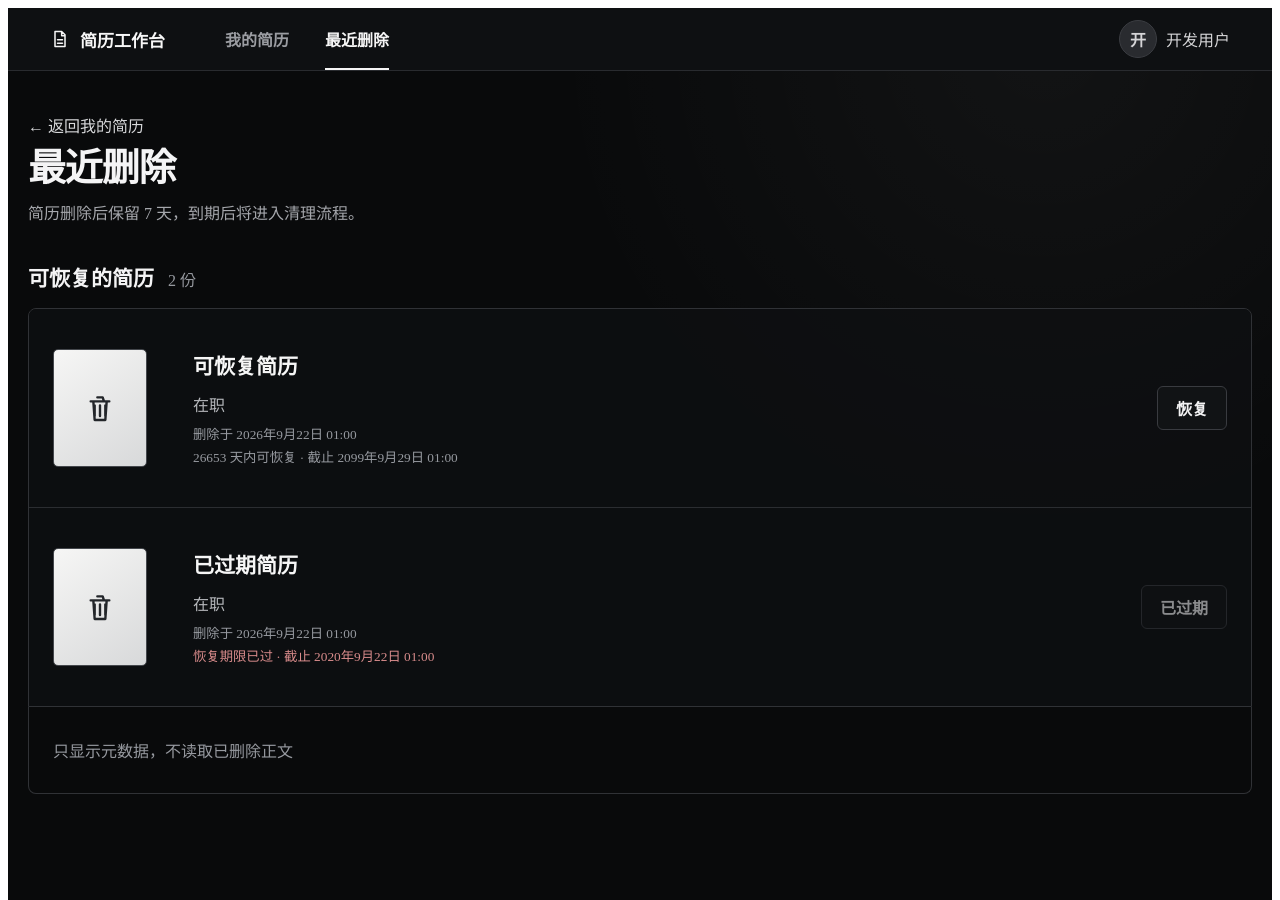
Test: recently deleted resumes › disables expired restores and retains the card and key across a failed retry
Expected: the text "可恢复简历" is shown, [193, 355, 298, 379]
Expected: the button "已过期" is disabled, [1141, 585, 1227, 629]
Click the button "恢复" at (1192, 408), box [1157, 386, 1227, 430]
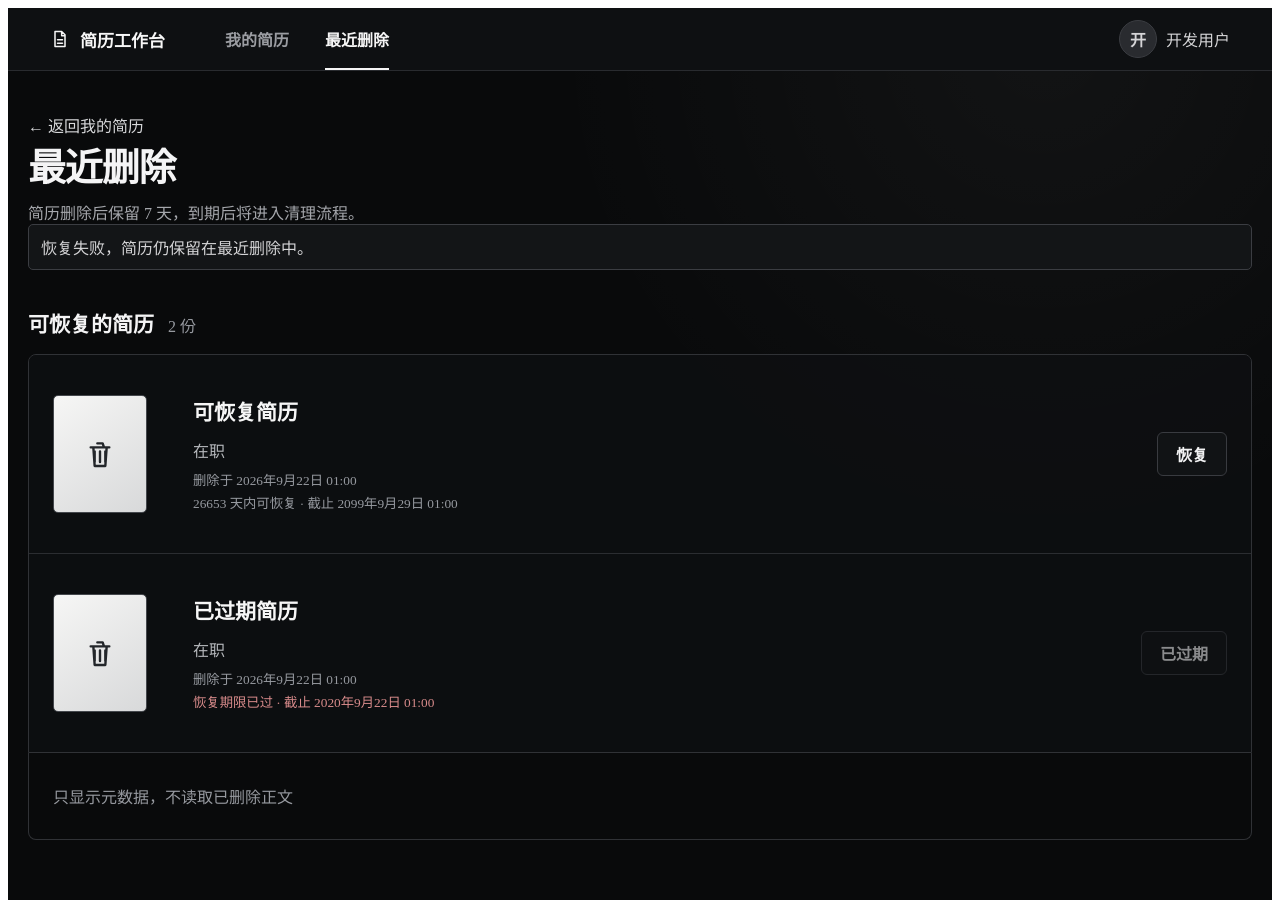
Expected: the text "可恢复简历" is shown, [193, 401, 298, 425]
Expected: the message shows "恢复失败", [41, 240, 313, 257]
Click the button "恢复" at (1192, 454), box [1157, 432, 1227, 476]
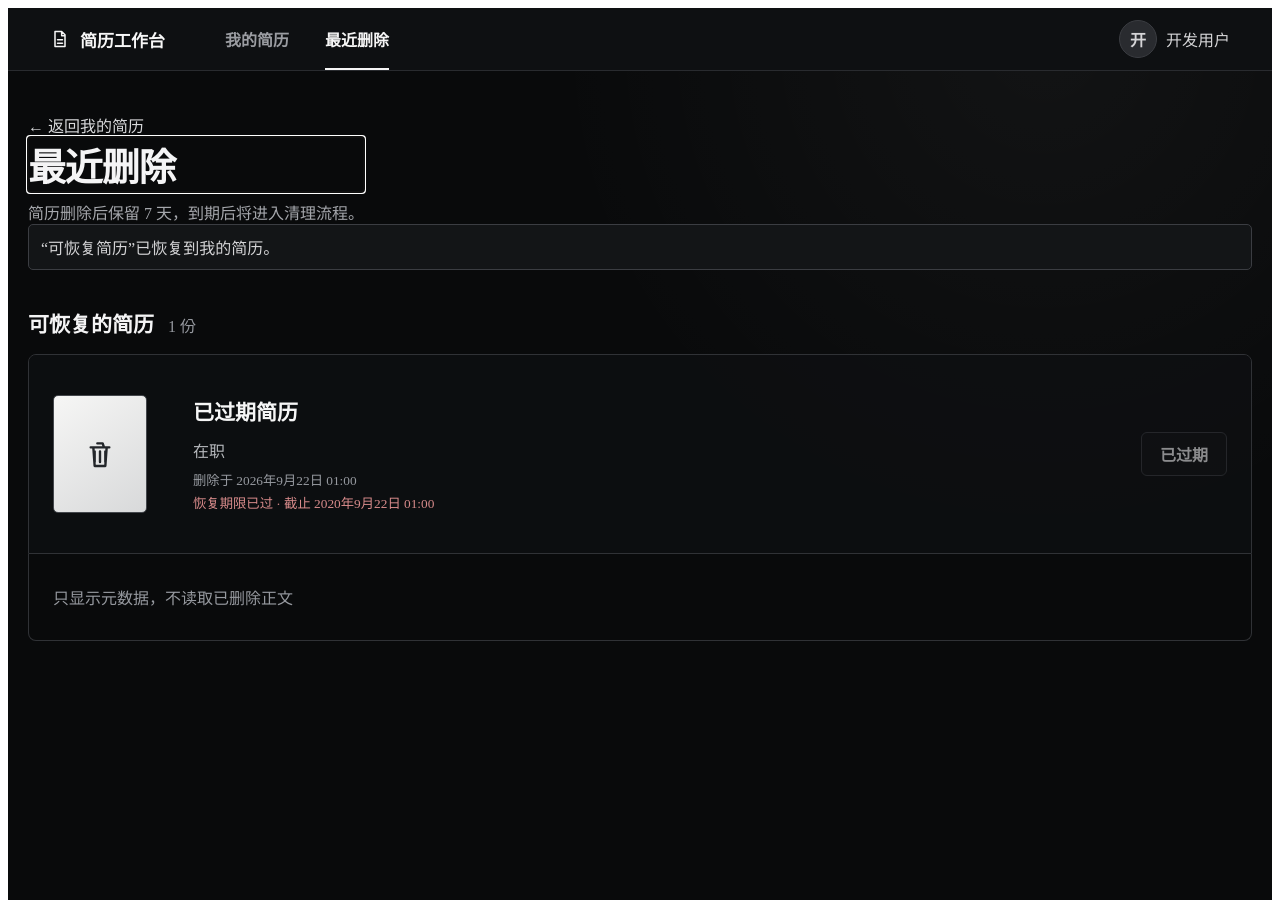
Expected: the message shows "已恢复到我的简历", [41, 240, 279, 257]
